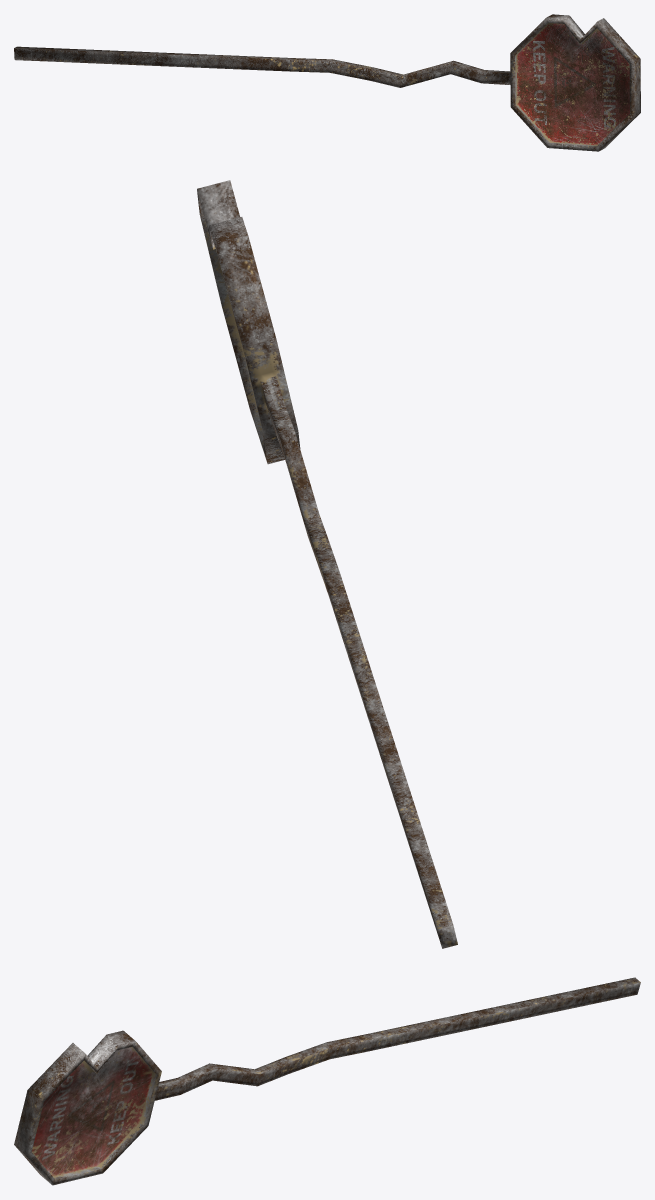
Rendered from Anim_idle_senyal_objetos.0045.obj.
The picture shows the model from 3 angles, top to bottom: view 1: azimuth 30°, elevation 25°; view 2: azimuth 150°, elevation 25°; view 3: azimuth 270°, elevation 25°; orthographic projection. The views are drawn at different scales.
Bounding box in the file's own units: 8.17 × 2.63 × 9.87.
